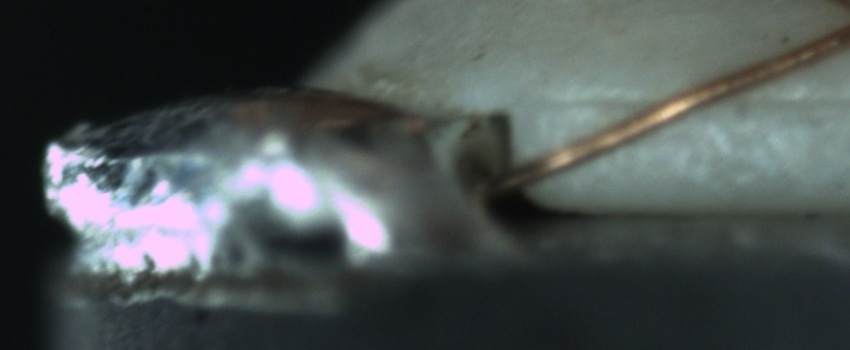DL: (532, 73, 850, 133)
